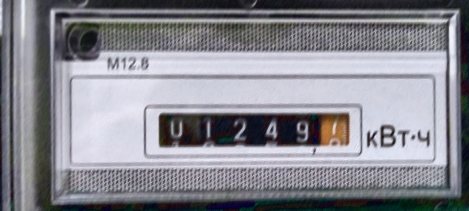0: (166, 112, 185, 139)
1: (198, 112, 214, 140)
2: (229, 116, 248, 143)
4: (262, 114, 280, 140)
7: (325, 109, 343, 137)
9: (291, 116, 310, 144)
screen: (138, 84, 368, 177)
